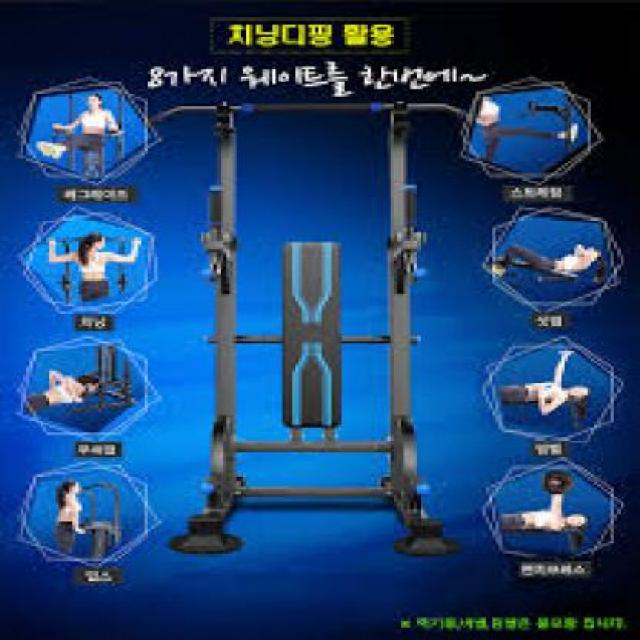chinning dipping: (151, 97, 466, 560)
